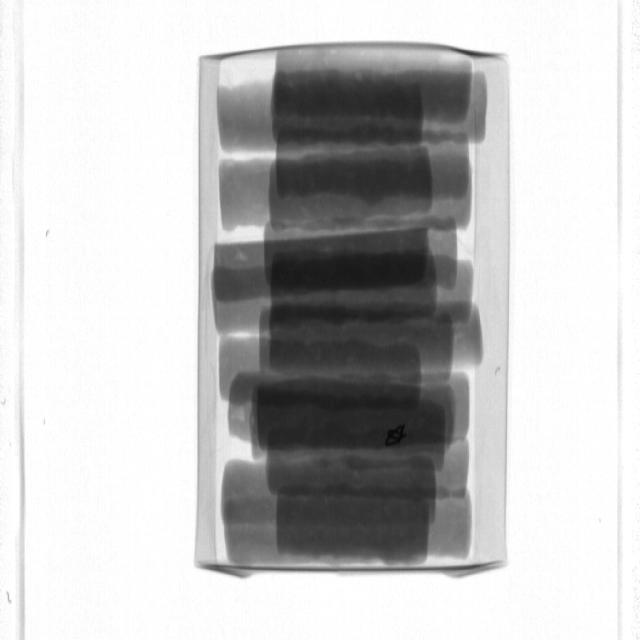ym: (386, 425, 406, 446)
